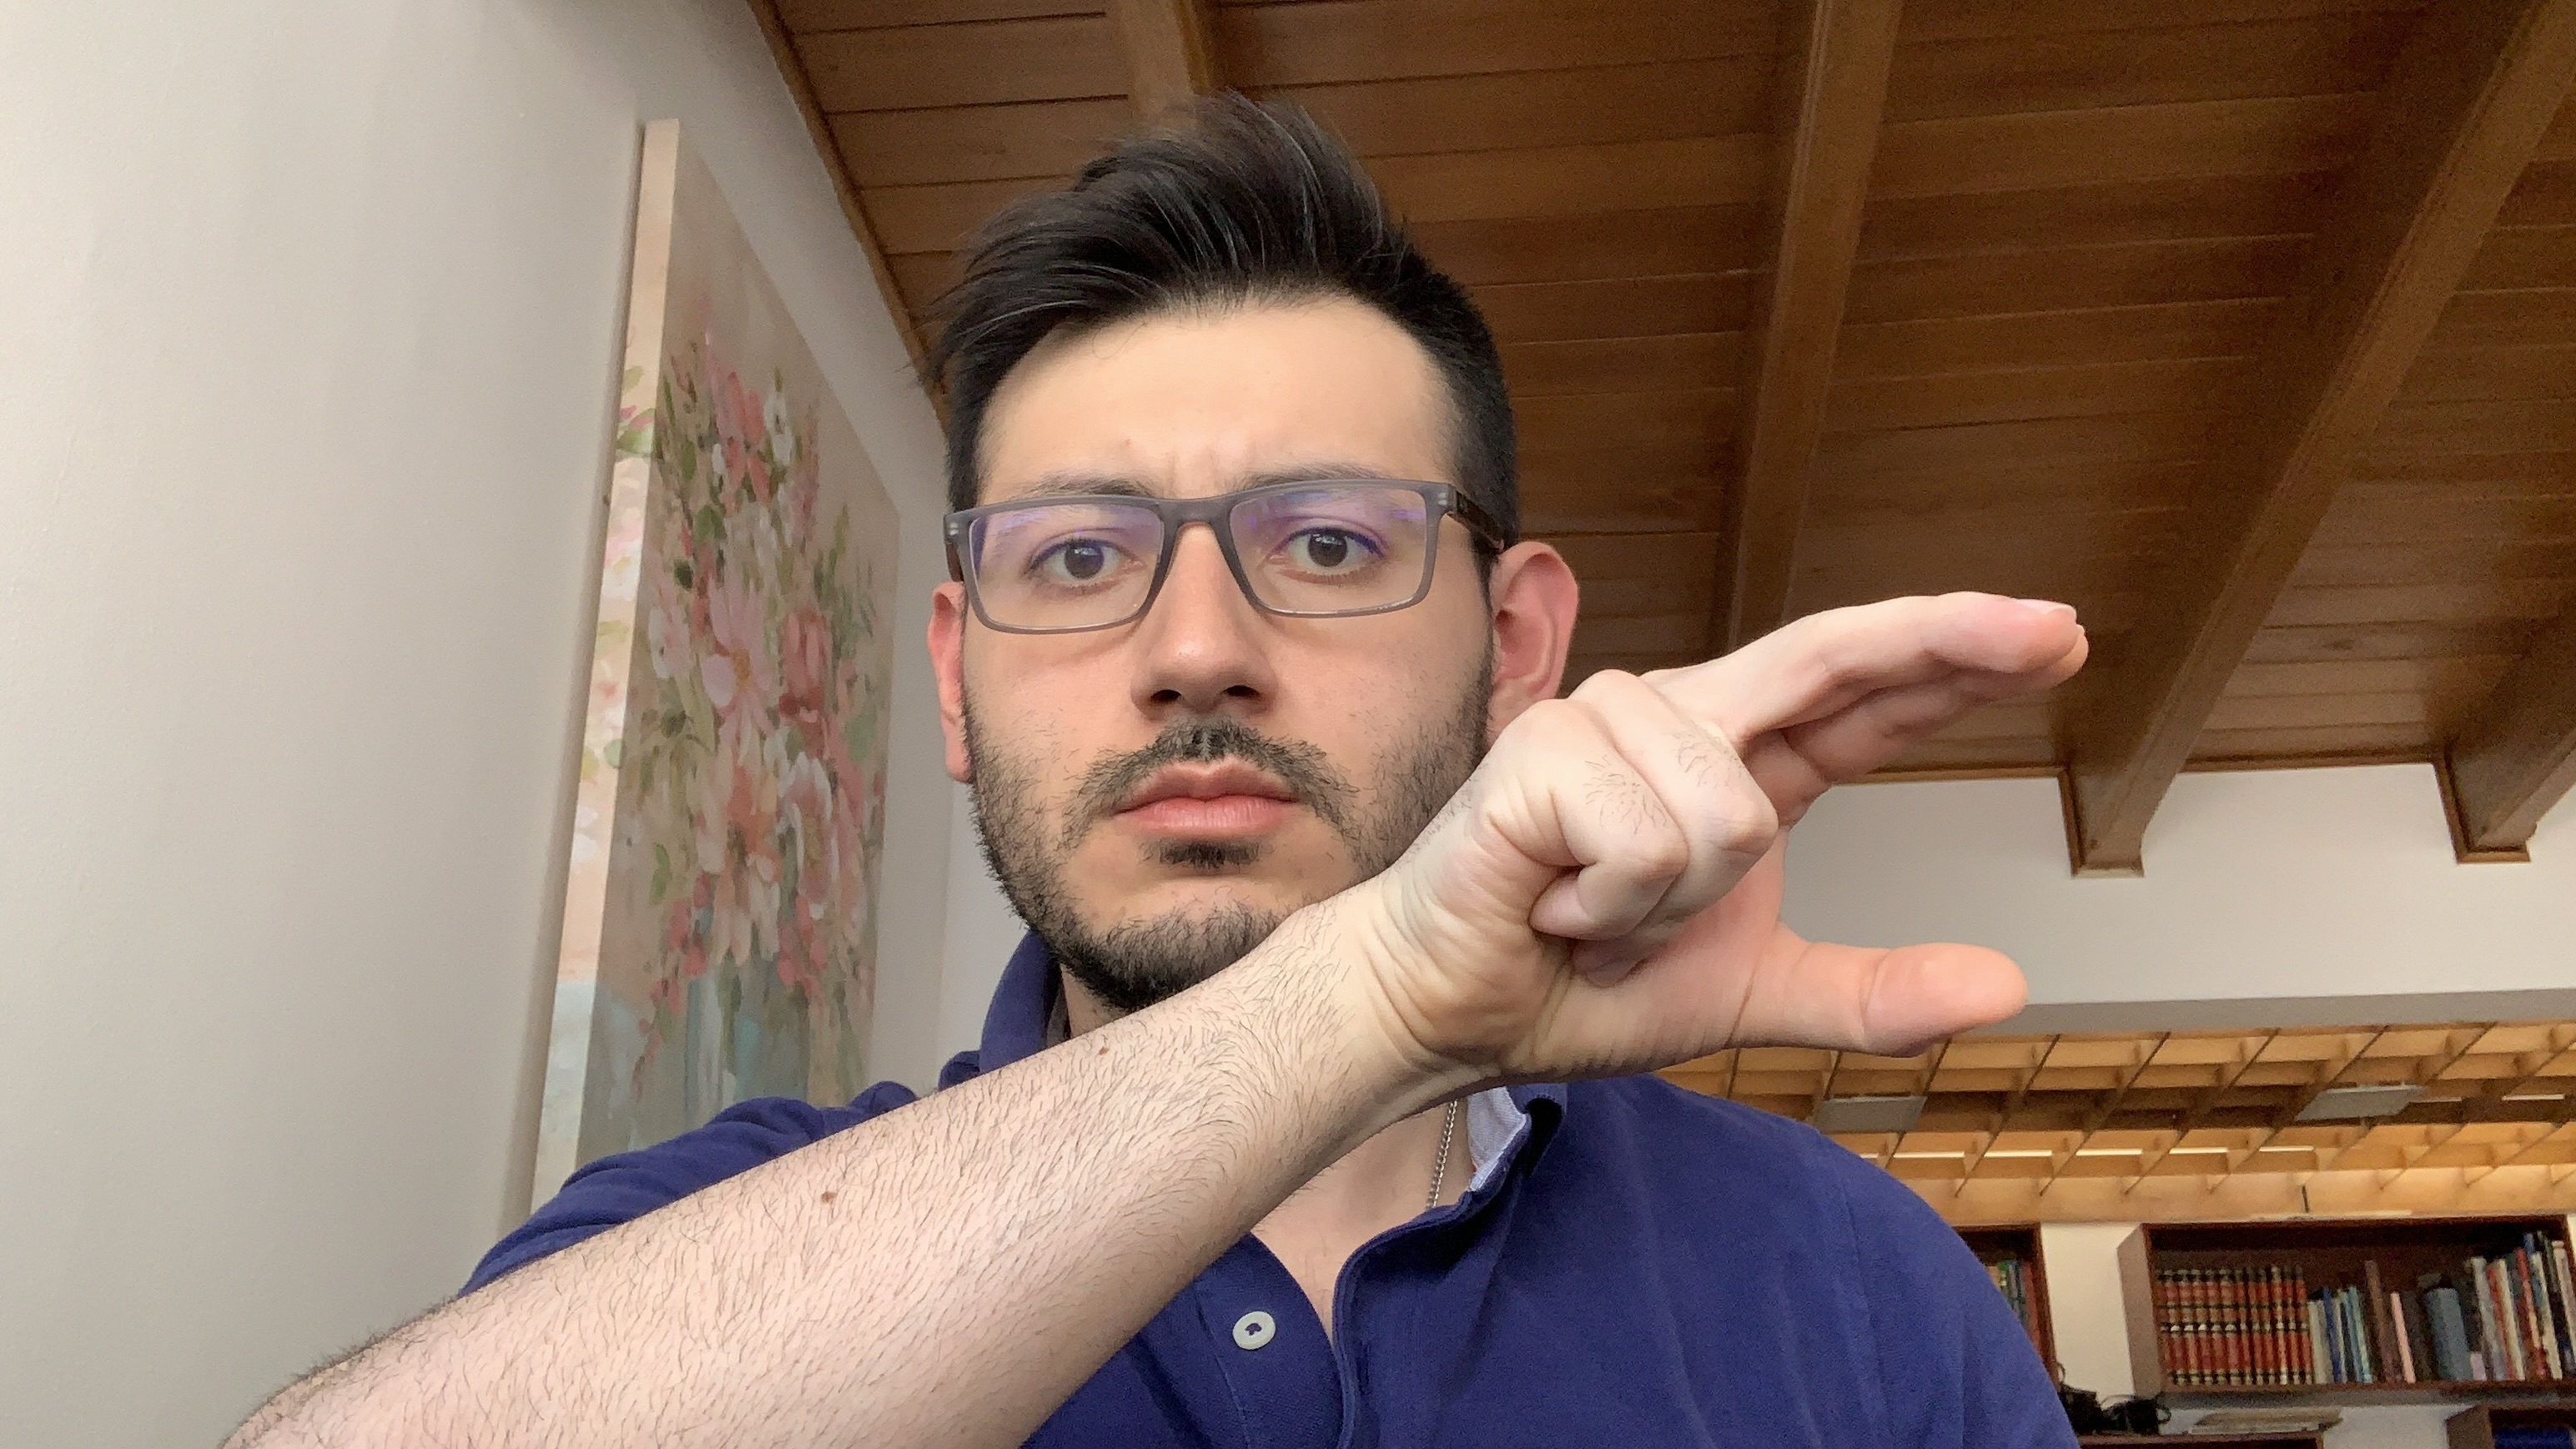No: (1371, 584, 2097, 1104)
